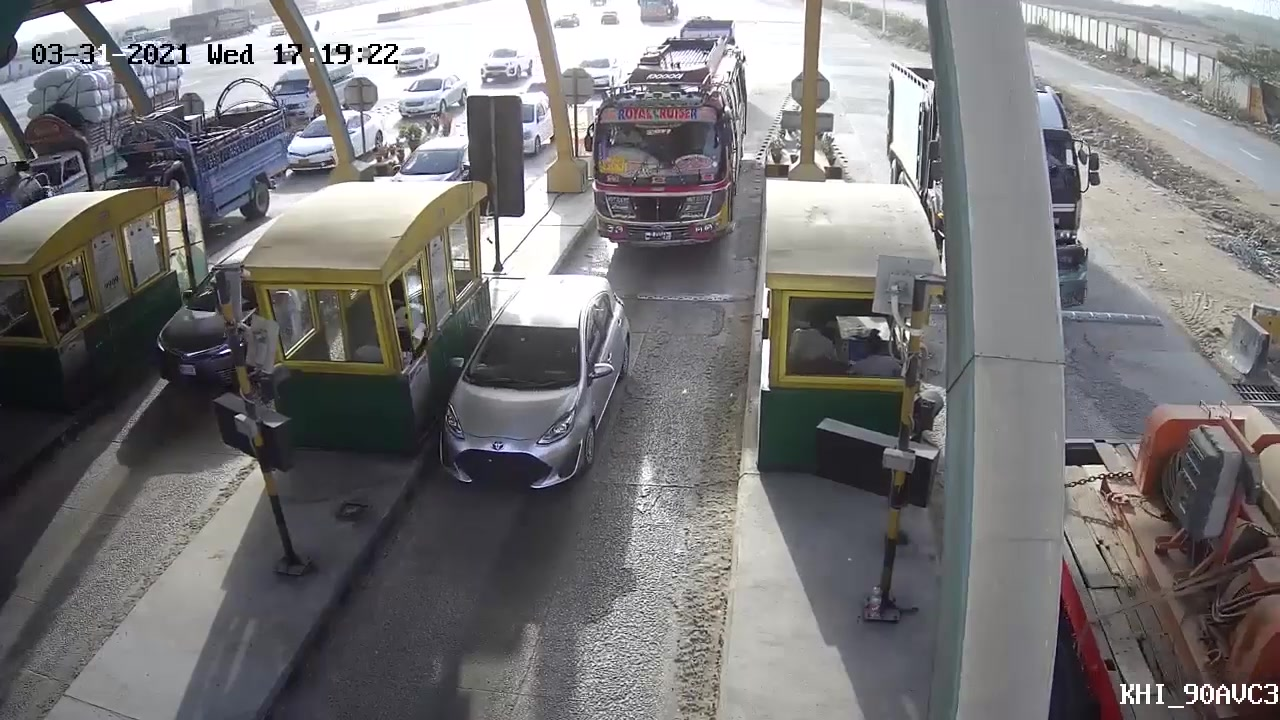F1: (437, 268, 644, 496)
F4: (588, 23, 756, 250)
